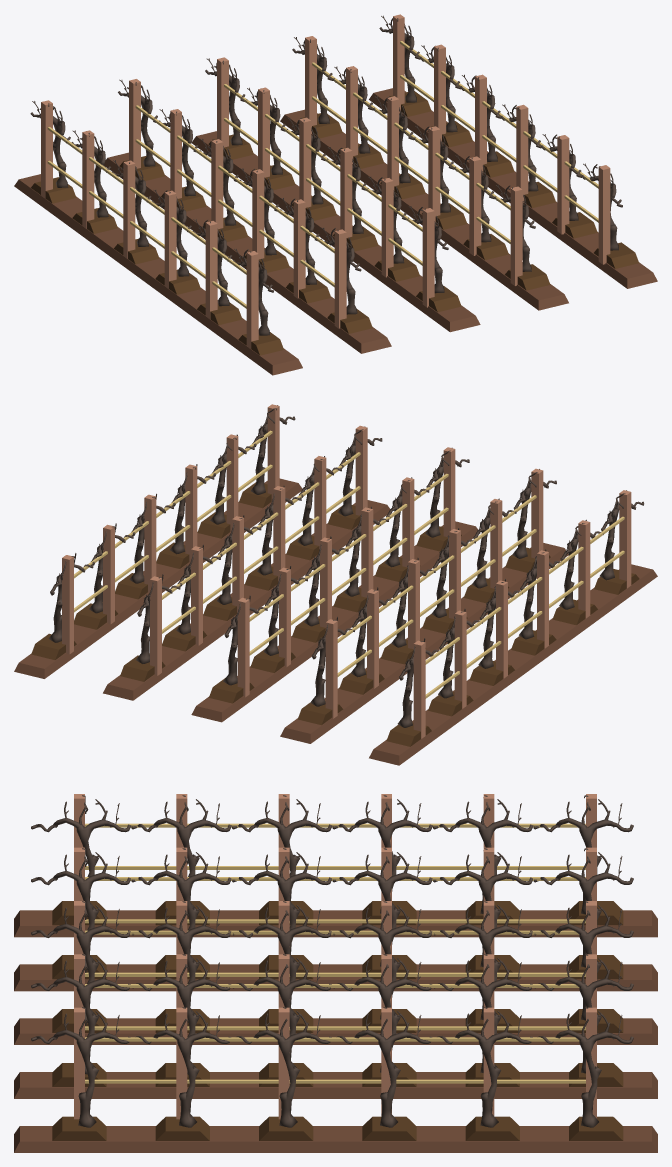
File: VinesAugust.fbx
3 views of the same model, one above another, from view 1: azimuth 30°, elevation 25°; view 2: azimuth 150°, elevation 25°; view 3: azimuth 270°, elevation 25° (orthographic). The views are drawn at different scales.
Parts seen in each view (by area): view 1: Trellis pole, Soil Furrow, Cube, Dirt mound, Trellis wire; view 2: Trellis pole, Soil Furrow, Cube, Dirt mound, Trellis wire; view 3: Soil Furrow, Cube, Dirt mound, Trellis wire, Trellis pole.
Part boxes in pixels (x1=…): Trellis pole: x1=41, y1=14, x2=610, y2=348; Soil Furrow: x1=14, y1=88, x2=657, y2=375; Cube: x1=30, y1=15, x2=622, y2=335; Dirt mound: x1=31, y1=91, x2=638, y2=355; Trellis wire: x1=47, y1=41, x2=598, y2=308; Trellis pole: x1=62, y1=404, x2=631, y2=738; Soil Furrow: x1=14, y1=478, x2=657, y2=765; Cube: x1=48, y1=405, x2=644, y2=727; Dirt mound: x1=31, y1=482, x2=639, y2=746; Trellis wire: x1=74, y1=430, x2=624, y2=698; Soil Furrow: x1=14, y1=910, x2=657, y2=1152; Cube: x1=31, y1=795, x2=633, y2=1127; Dirt mound: x1=52, y1=901, x2=623, y2=1140; Trellis wire: x1=85, y1=823, x2=585, y2=1083; Trellis pole: x1=74, y1=794, x2=596, y2=1119.
Bounding box in the file's own units: 302 × 76.37 × 351.
